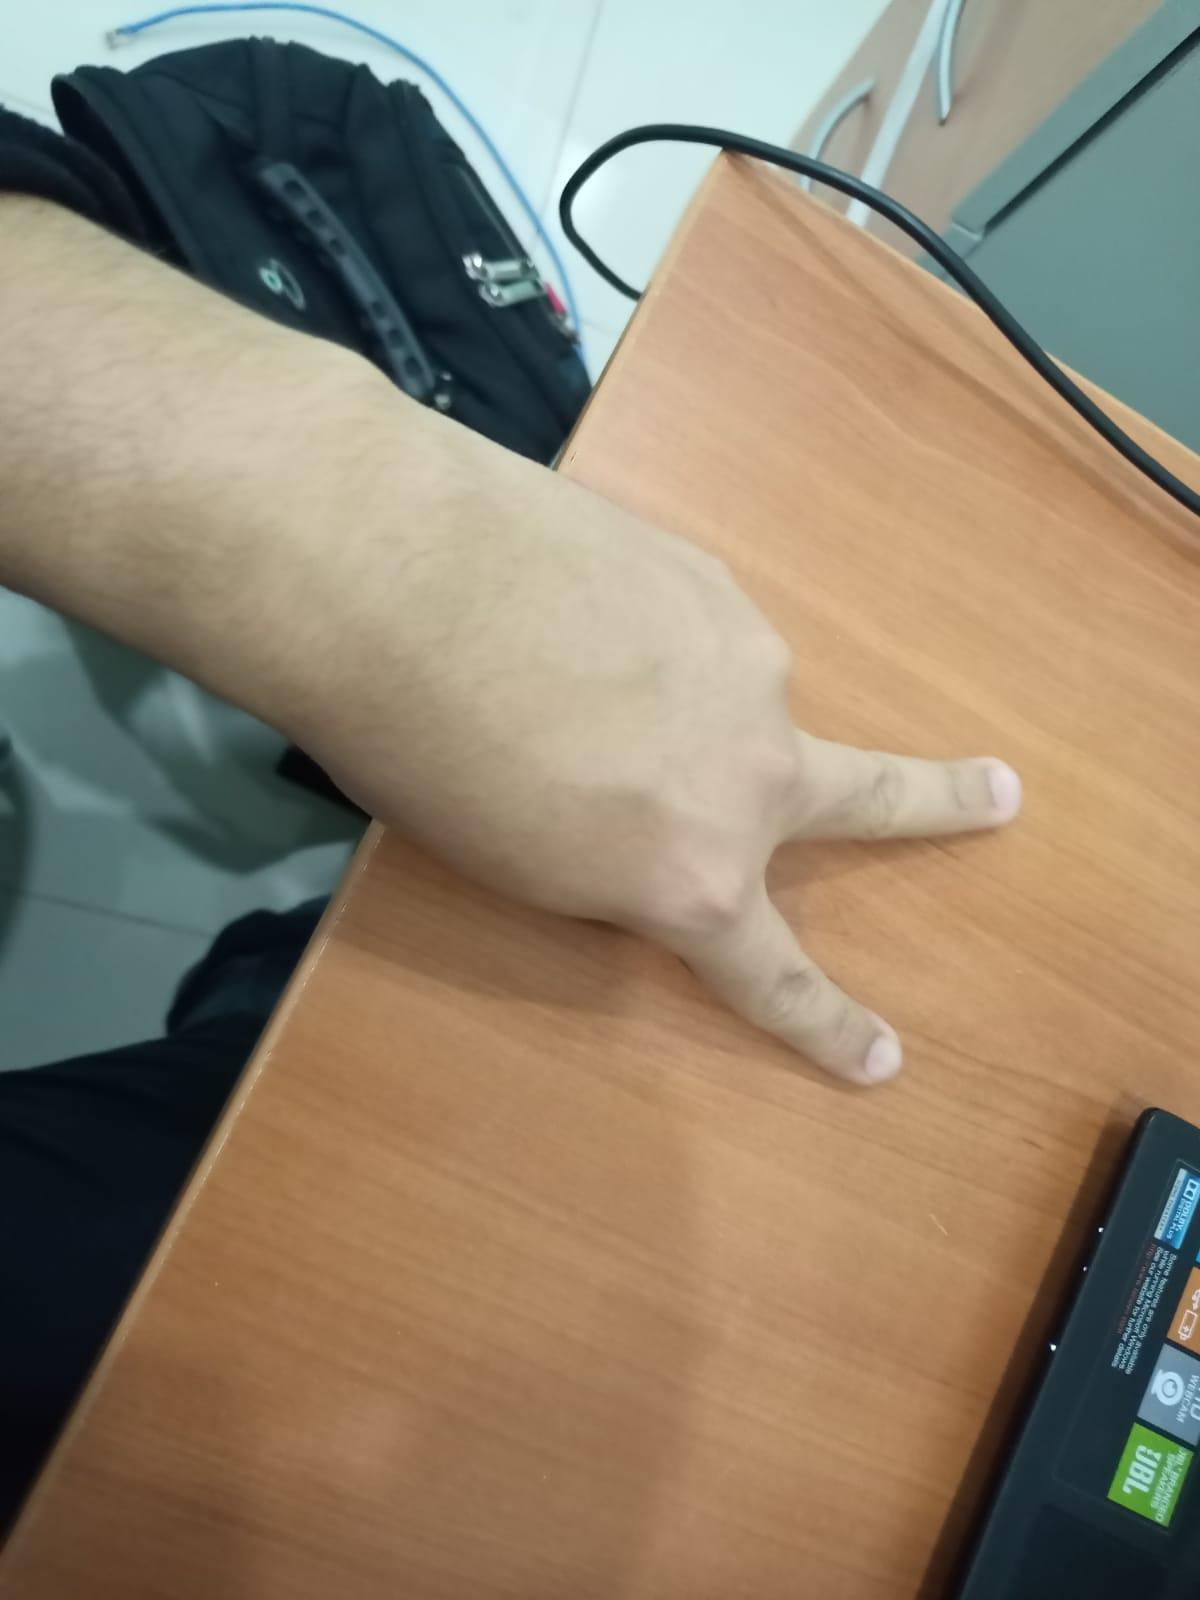Scissor: (378, 446, 1066, 1121)
